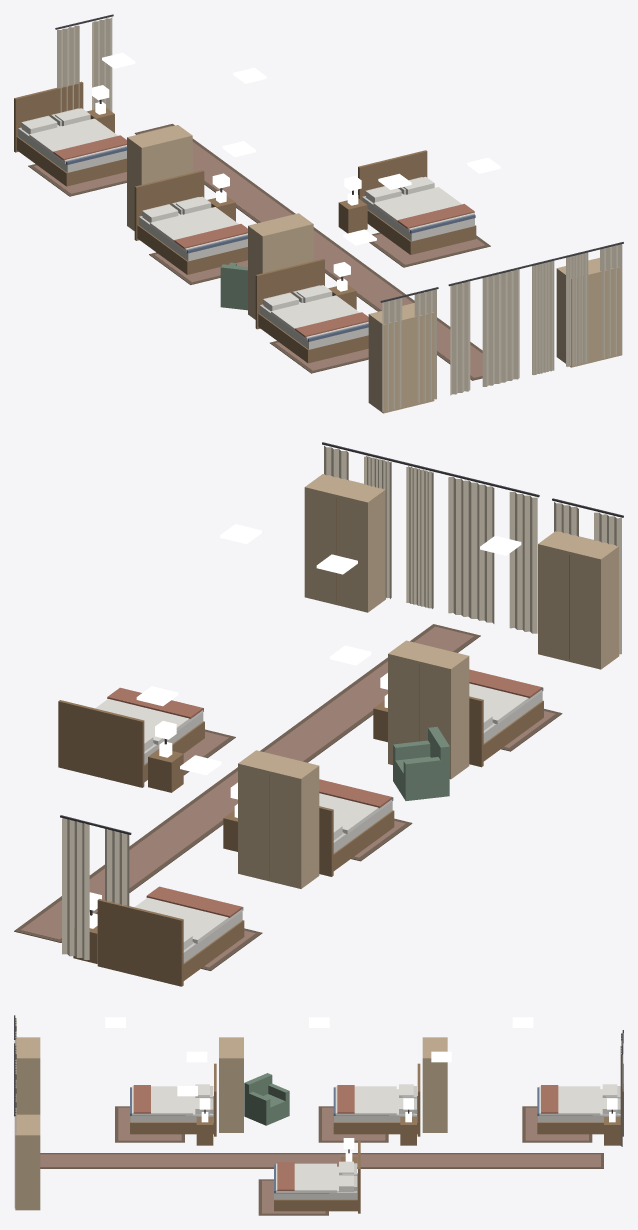
Rendered from fine-s3.glb.
The picture shows the model from 3 angles, top to bottom: view 1: azimuth 30°, elevation 25°; view 2: azimuth 150°, elevation 25°; view 3: azimuth 270°, elevation 25°; orthographic projection. The views are drawn at different scales.
Visible parts, largest first — view 1: soft-s3, dresser.011, bed-frame.010, bed-frame.011, bed-frame.009, bed-frame.008, dresser.008, dresser.009, dresser.010, lounge-chair.002, nightstand.008; view 2: soft-s3, dresser.009, dresser.011, dresser.008, dresser.010, bed-frame.009, bed-frame.008, lounge-chair.002, bed-frame.010, bed-frame.011, nightstand.008; view 3: soft-s3, dresser.008, dresser.010, dresser.009, bed-frame.008, dresser.011, bed-frame.010, lounge-chair.002, bed-frame.011, bed-frame.009, nightstand.011, nightstand.009 (+1 smaller).
Part boxes in pixels (x1=…): soft-s3: x1=21, y1=14, x2=623, y2=411; dresser.011: x1=368, y1=303, x2=434, y2=413; bed-frame.010: x1=134, y1=170, x2=247, y2=274; bed-frame.011: x1=255, y1=258, x2=368, y2=363; bed-frame.009: x1=14, y1=81, x2=126, y2=186; bed-frame.008: x1=358, y1=150, x2=476, y2=254; dresser.008: x1=556, y1=257, x2=622, y2=367; dresser.009: x1=127, y1=125, x2=192, y2=230; dresser.010: x1=248, y1=213, x2=313, y2=319; lounge-chair.002: x1=220, y1=262, x2=247, y2=310; nightstand.008: x1=338, y1=192, x2=367, y2=233; soft-s3: x1=14, y1=442, x2=623, y2=970; dresser.009: x1=238, y1=750, x2=319, y2=888; dresser.011: x1=538, y1=531, x2=619, y2=669; dresser.008: x1=304, y1=474, x2=385, y2=612; dresser.010: x1=388, y1=640, x2=469, y2=779; bed-frame.009: x1=97, y1=899, x2=244, y2=986; bed-frame.008: x1=58, y1=700, x2=204, y2=787; lounge-chair.002: x1=393, y1=726, x2=449, y2=800; bed-frame.010: x1=319, y1=797, x2=394, y2=876; bed-frame.011: x1=469, y1=687, x2=543, y2=767; nightstand.008: x1=148, y1=741, x2=183, y2=792; soft-s3: x1=14, y1=1015, x2=623, y2=1215; dresser.008: x1=15, y1=1114, x2=40, y2=1210; dresser.010: x1=219, y1=1037, x2=243, y2=1132; dresser.009: x1=422, y1=1037, x2=447, y2=1132; bed-frame.008: x1=274, y1=1141, x2=360, y2=1213; dresser.011: x1=16, y1=1037, x2=40, y2=1114; bed-frame.010: x1=333, y1=1063, x2=420, y2=1136; lounge-chair.002: x1=244, y1=1073, x2=289, y2=1125; bed-frame.011: x1=130, y1=1063, x2=216, y2=1136; bed-frame.009: x1=537, y1=1063, x2=623, y2=1136; nightstand.011: x1=196, y1=1112, x2=213, y2=1145; nightstand.009: x1=604, y1=1112, x2=620, y2=1145.
Bounding box in the file's own units: 6.25 × 2.82 × 14.77.
